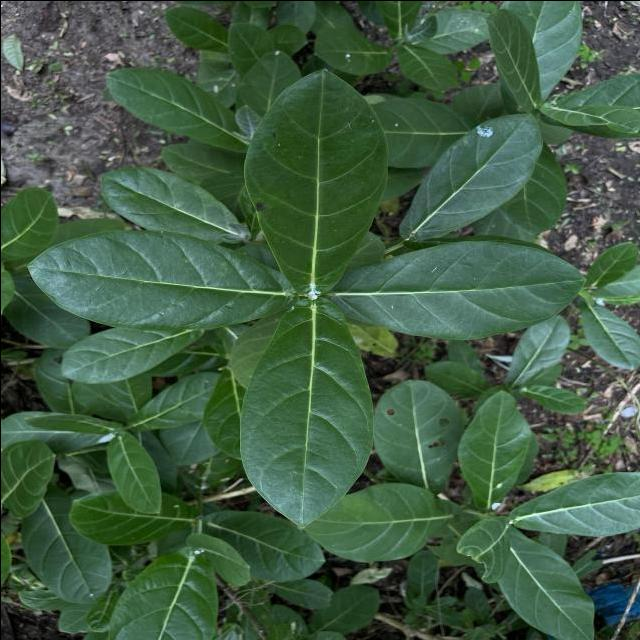Calotropis gigantea: (238, 65, 390, 296), (236, 296, 376, 530), (25, 228, 292, 332), (326, 238, 586, 341), (396, 111, 544, 242), (104, 63, 245, 155), (298, 480, 450, 564), (96, 163, 248, 244), (496, 525, 595, 640), (17, 497, 114, 606), (370, 378, 462, 490), (454, 388, 531, 510), (204, 508, 328, 580), (58, 327, 206, 385), (66, 494, 190, 546), (106, 430, 164, 516)
